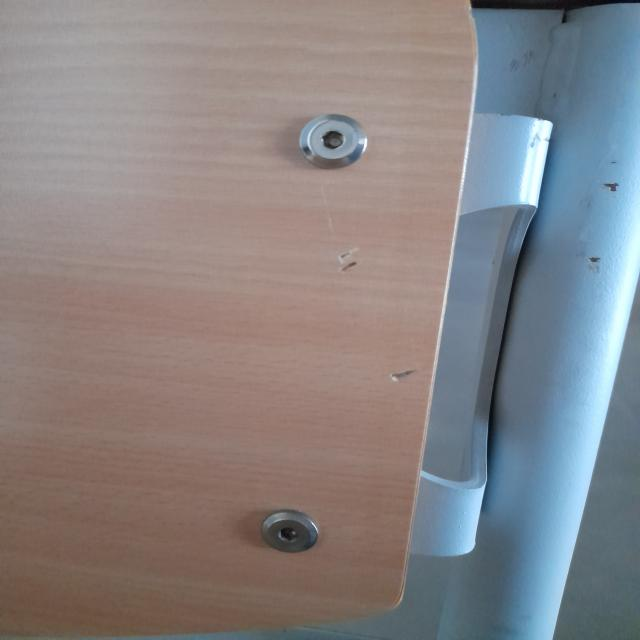Hex Socket Allen: (299, 113, 368, 168), (261, 510, 319, 554)
